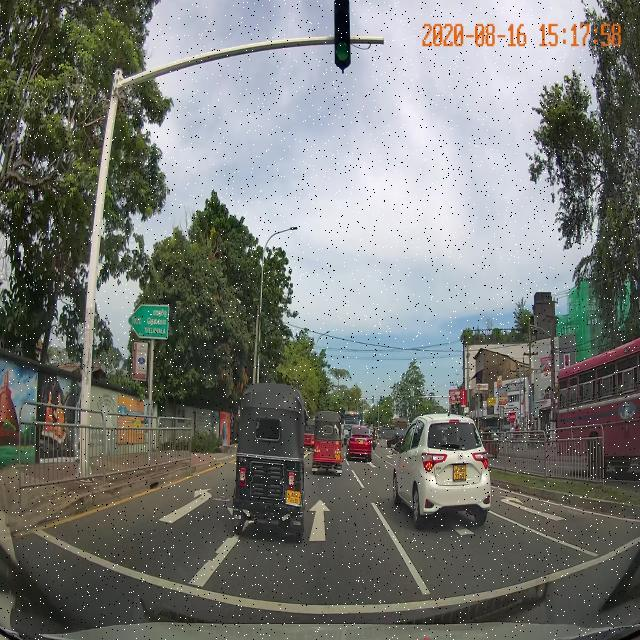forward: (283, 490, 431, 589)
